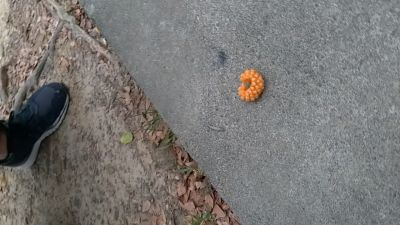eggs: (237, 69, 265, 104)
